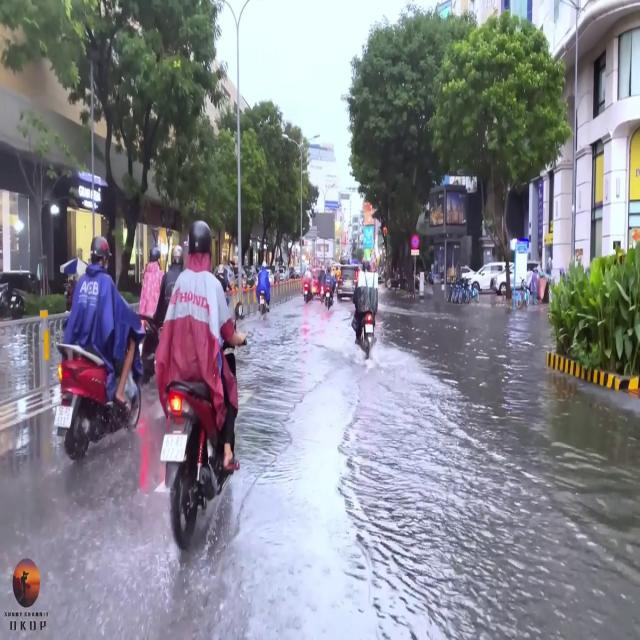bien_trang: (159, 434, 187, 463), (55, 404, 72, 428)
